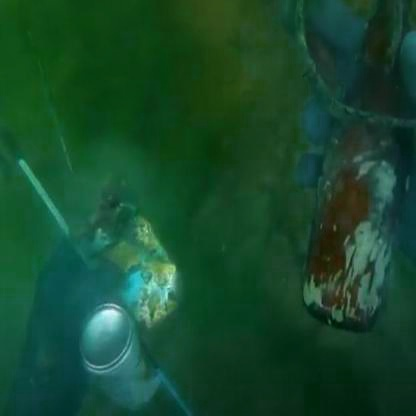can: (70, 306, 159, 392)
pbottle: (320, 63, 400, 361)
